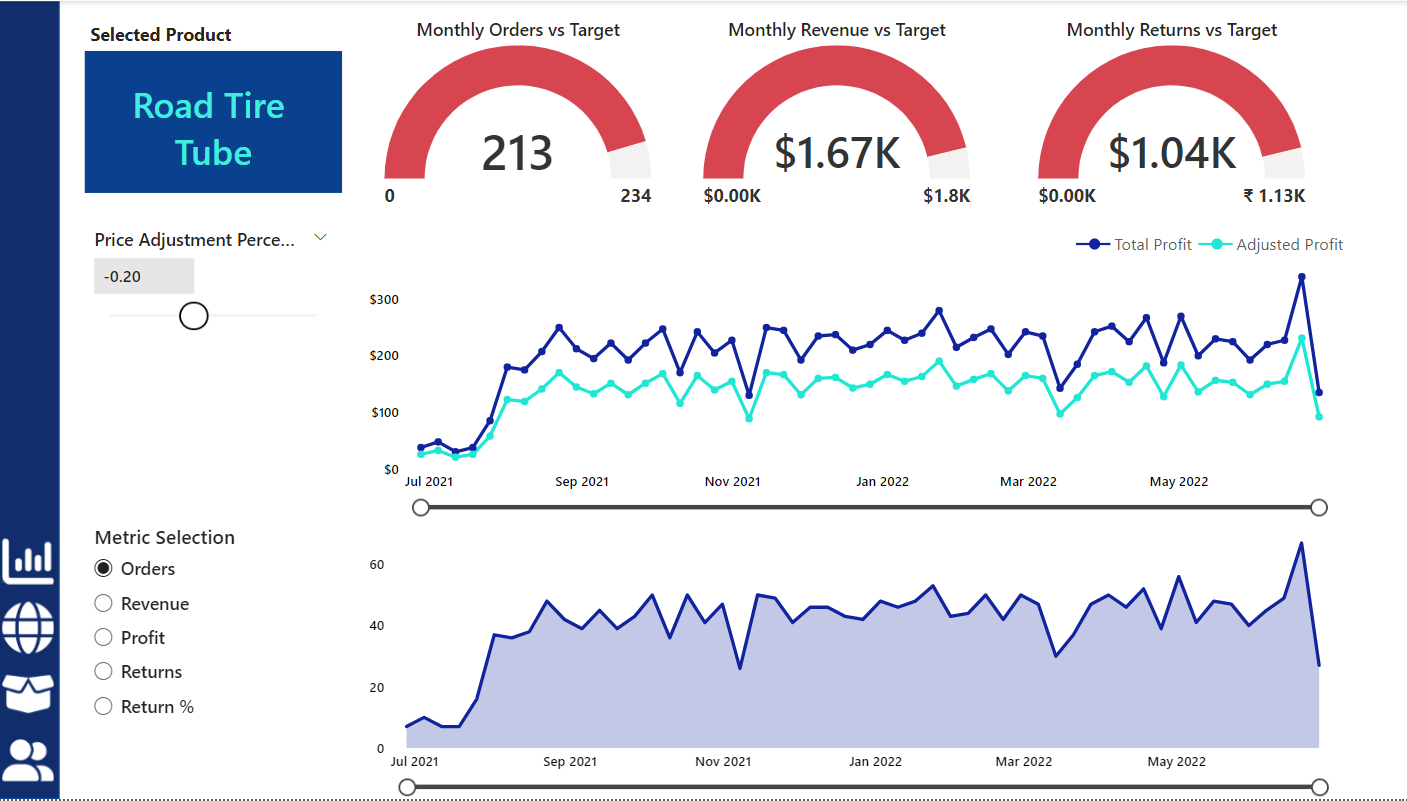

This screenshot's page, from the dashboard's own definition file:
{"tool":"powerbi","page":{"name":"Products","canvas":[1280,720],"ordinal":2},"visuals":[{"type":"shape","title":"Left Nav Bg","box":[0,0,57.5,720],"z":0},{"type":"gauge","title":"Monthly Orders vs Target ","fields":{"Y":["Measure Table.Total Orders"],"MaxValue":["Measure Table.Target Orders"]},"box":[331.4,13.5,278.8,183.4],"z":1000},{"type":"gauge","title":"Monthly Revenue vs Target ","fields":{"Y":["Measure Table.Total Revenue"],"MaxValue":["Measure Table.Target Revenue"]},"box":[618.8,13.5,278.8,183.4],"z":2000},{"type":"gauge","title":"Monthly Returns  vs Target ","fields":{"MaxValue":["Measure Table.Target Profit"],"Y":["Measure Table.Total Profit"]},"box":[920.8,13.5,278.8,183.4],"z":3000},{"type":"lineChart","title":"Trending Profit ","fields":{"Category":["Calendar Lookup.Date Hierarchy.Start of Year","Calendar Lookup.Date Hierarchy.Start of Month","Calendar Lookup.Date Hierarchy.Start of Week","Calendar Lookup.Date Hierarchy.Date"],"Y":["Measure Table.Total Profit","Measure Table.Adjusted Profit"]},"box":[331.4,198.1,893.9,269],"z":4000},{"type":"areaChart","title":"Trending Returns ","fields":{"Y":["Measure Table.Total Orders"],"Category":["Calendar Lookup.Date Hierarchy.Start of Year","Calendar Lookup.Date Hierarchy.Start of Month","Calendar Lookup.Date Hierarchy.Start of Week","Calendar Lookup.Date Hierarchy.Date"]},"box":[331.4,467.1,893.9,253.1],"z":5000},{"type":"card","fields":{"Values":["Min(Product Lookup.ProductName)"]},"box":[79.5,45.2,232.3,128.4],"z":6000},{"type":"textbox","box":[79.5,13.5,251.9,41.6],"z":7000},{"type":"actionButton","box":[0,478.1,57.5,55],"z":8000},{"type":"actionButton","box":[0,656.7,57.5,55],"z":9000},{"type":"actionButton","box":[0,597.1,57.5,55],"z":10000},{"type":"actionButton","box":[0,537.6,57.5,55],"z":11000},{"type":"slicer","fields":{"Values":["Price Adjustment Percent.Price Adjustment Percent"]},"box":[75.8,198.1,236,198.1],"z":12000},{"type":"slicer","fields":{"Values":["Metric Selection .Metric Selection "]},"box":[75.8,467.1,236,253.1],"z":13000}]}

Visuals, with their boxes in screenshot pixels (x1, y1, x2, y2), scaled from the page's 1280x720 canvas onto the 1407x801 screenshot:
"Left Nav Bg" shape: (0, 0, 63, 800)
"Monthly Orders vs Target " gauge: (364, 15, 671, 219)
"Monthly Revenue vs Target " gauge: (680, 15, 987, 219)
"Monthly Returns  vs Target " gauge: (1012, 15, 1319, 219)
"Trending Profit " lineChart: (364, 220, 1347, 520)
"Trending Returns " areaChart: (364, 520, 1347, 800)
card - Min(Product Lookup.ProductName): (87, 50, 343, 193)
textbox: (87, 15, 364, 61)
actionButton: (0, 532, 63, 593)
actionButton: (0, 731, 63, 792)
actionButton: (0, 664, 63, 725)
actionButton: (0, 598, 63, 659)
slicer - Price Adjustment Percent.Price Adjustment Percent: (83, 220, 343, 441)
slicer - Metric Selection .Metric Selection : (83, 520, 343, 800)
